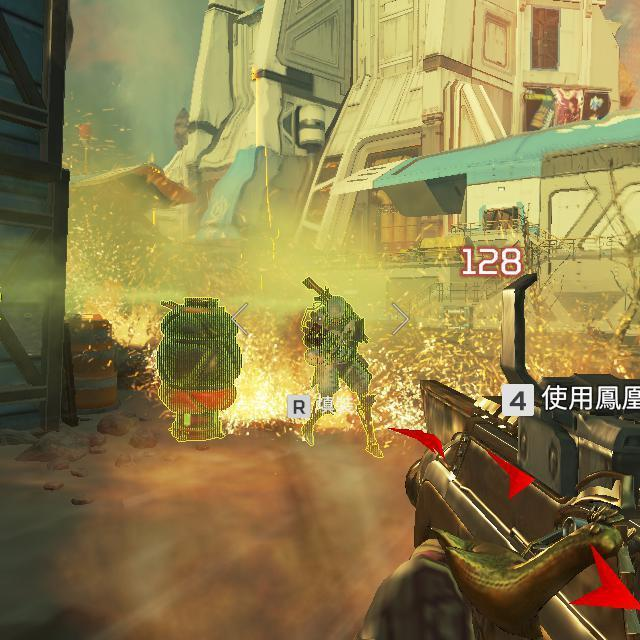avatar: (299, 294, 372, 463)
